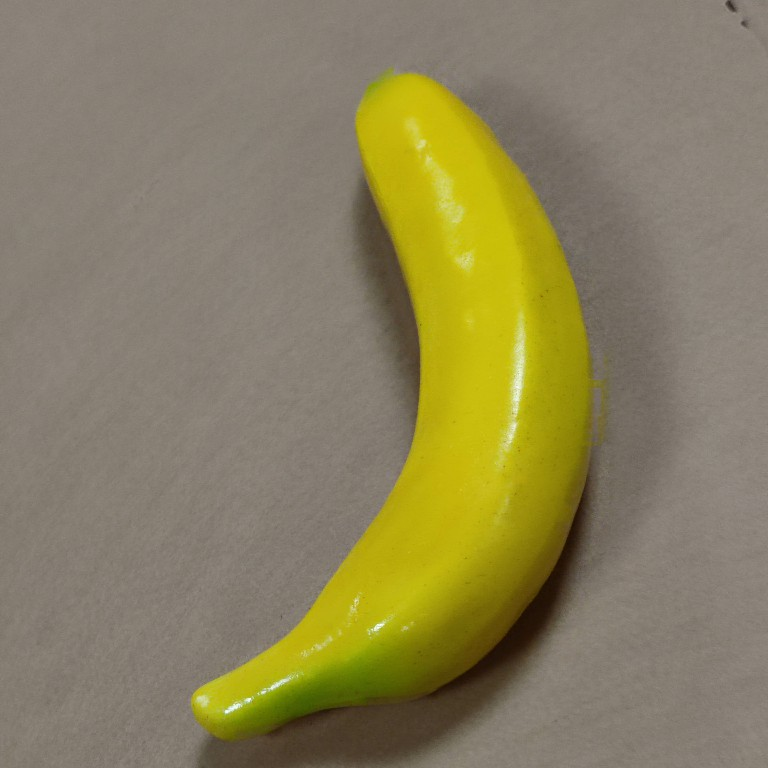fruit_banana: (185, 65, 593, 746)
